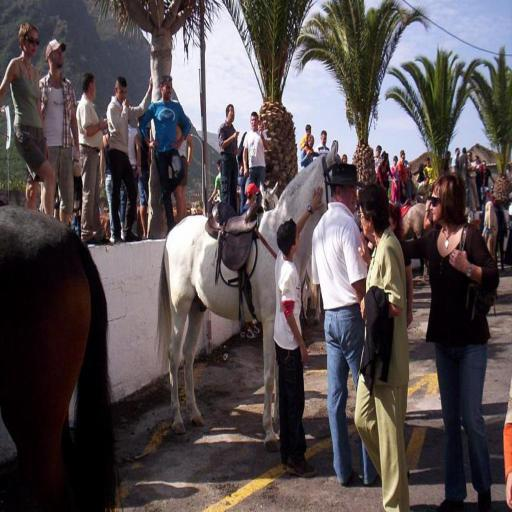Horse: (156, 141, 363, 452), (0, 205, 118, 511), (386, 200, 428, 280)
